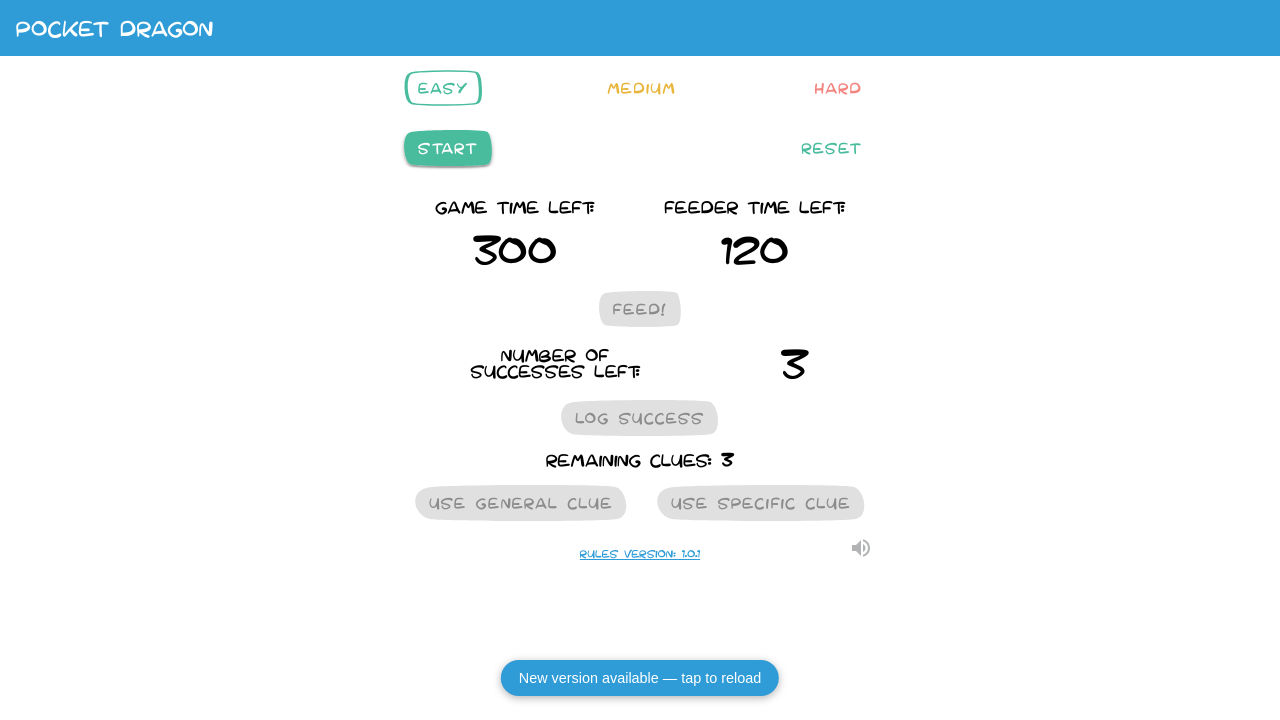
App reload button › hides while a game is running
This screenshot has width=1280, height=720.
Click the button with test id "start-pause": (448, 148) [400,126,496,170]
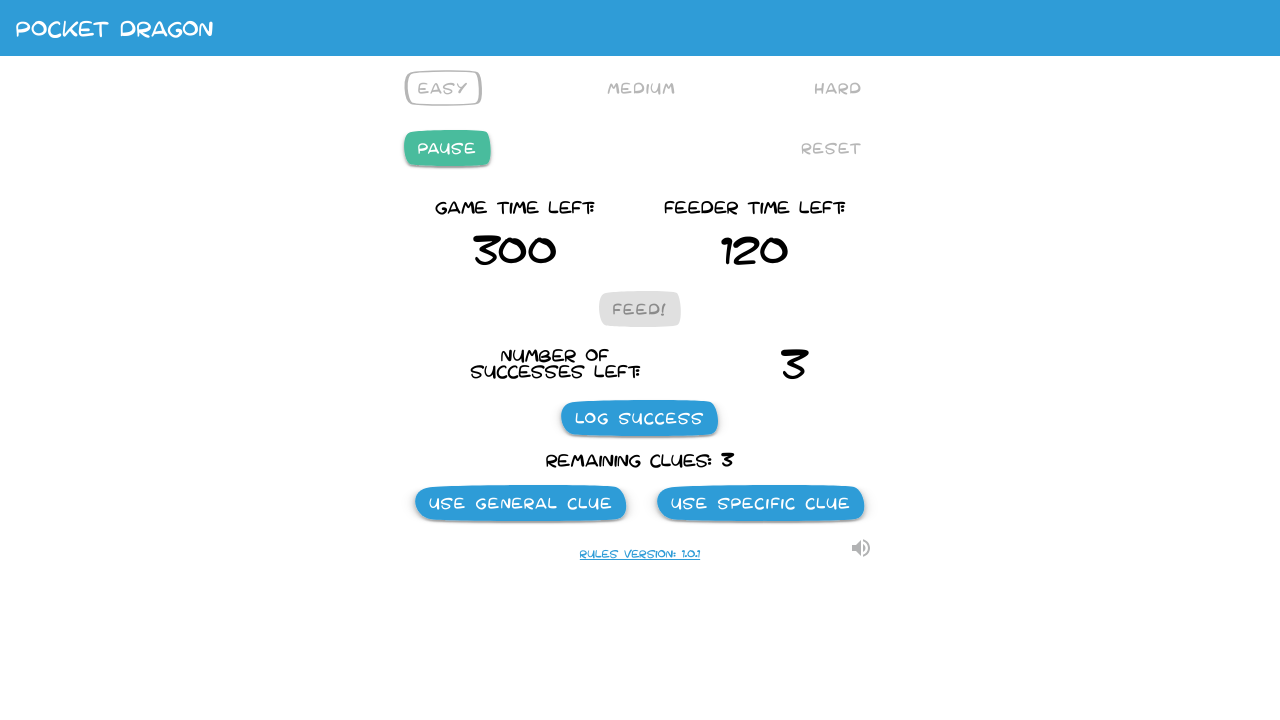
Check: the button with test id "reload-button" is gone
